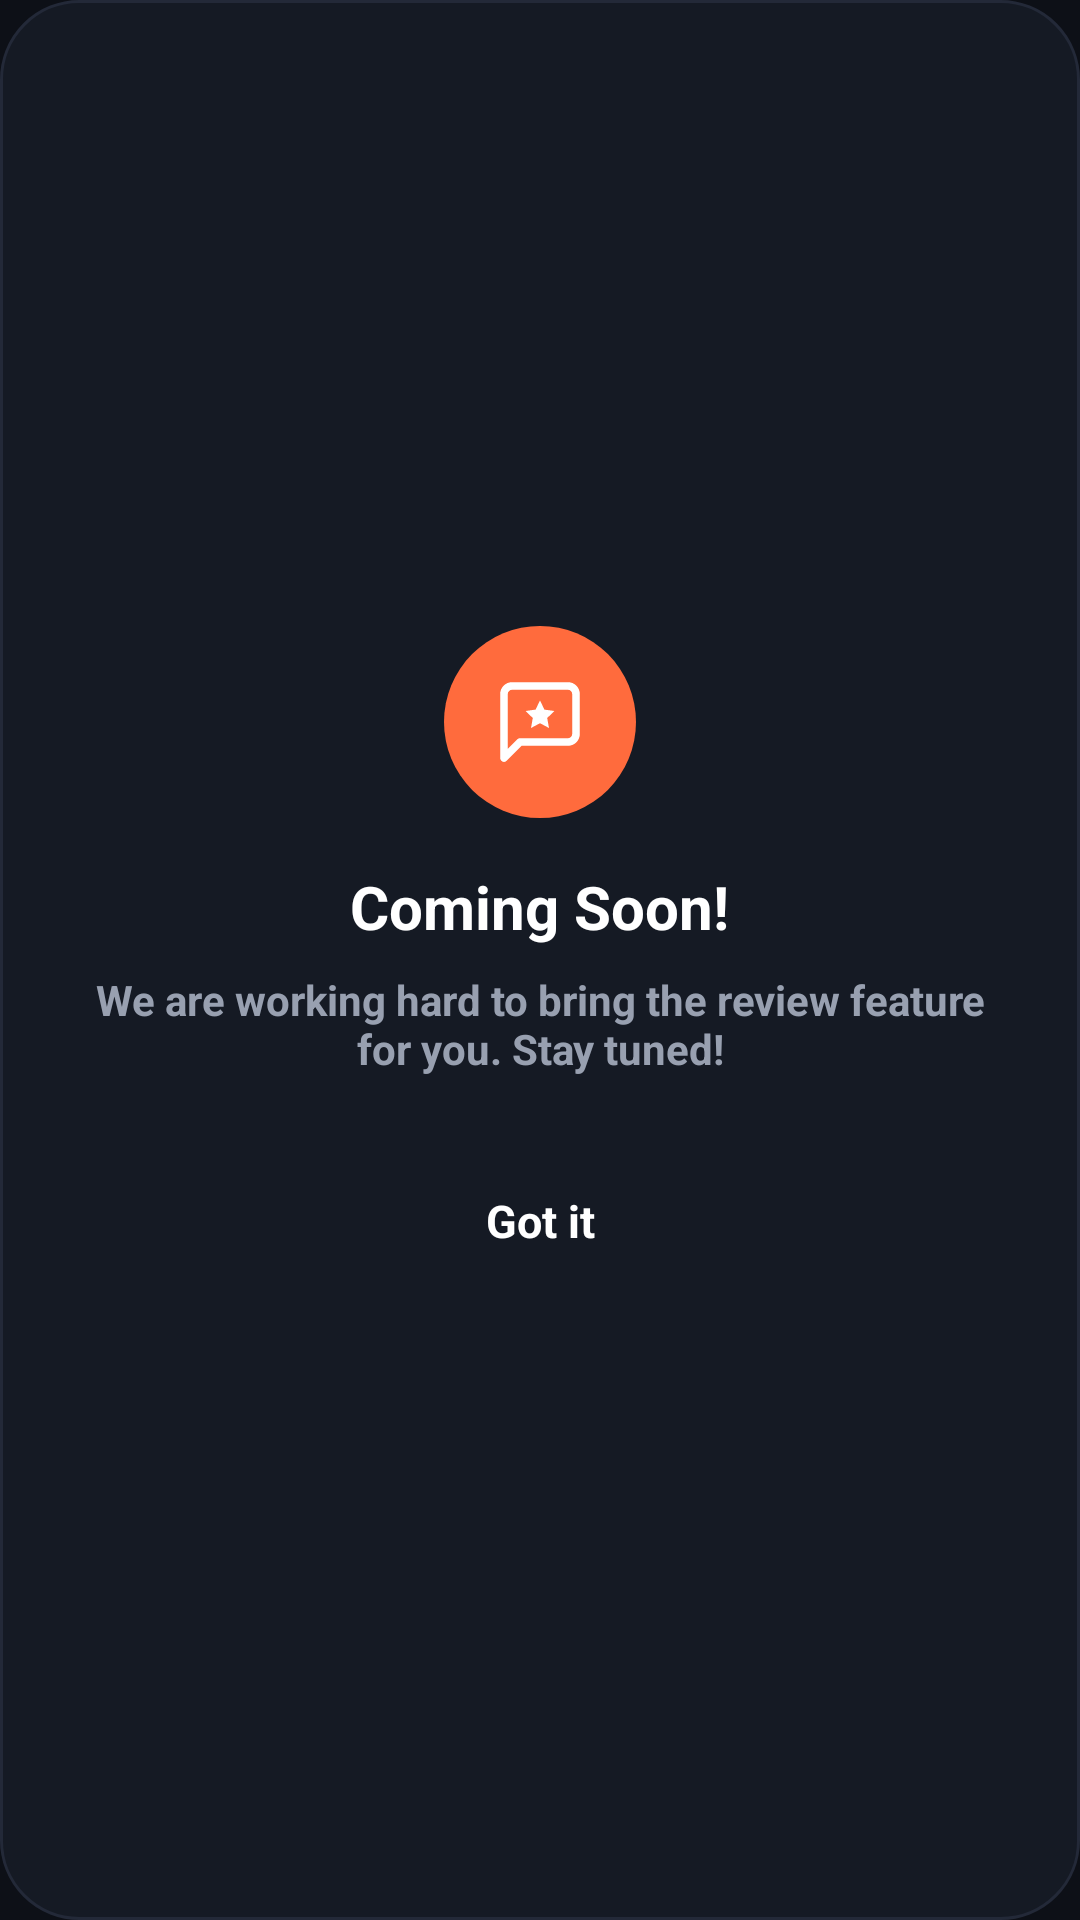

Named icons in this screenshot (1080×1920) and their bounding boxes, box=[x1, y1, x2, y2]:
review: box=[444, 626, 636, 818]
